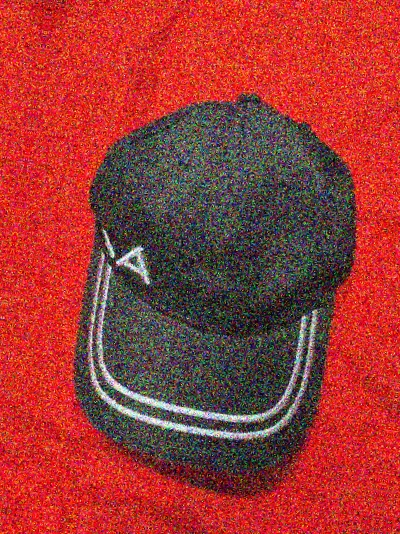Hat: (29, 57, 400, 508)
